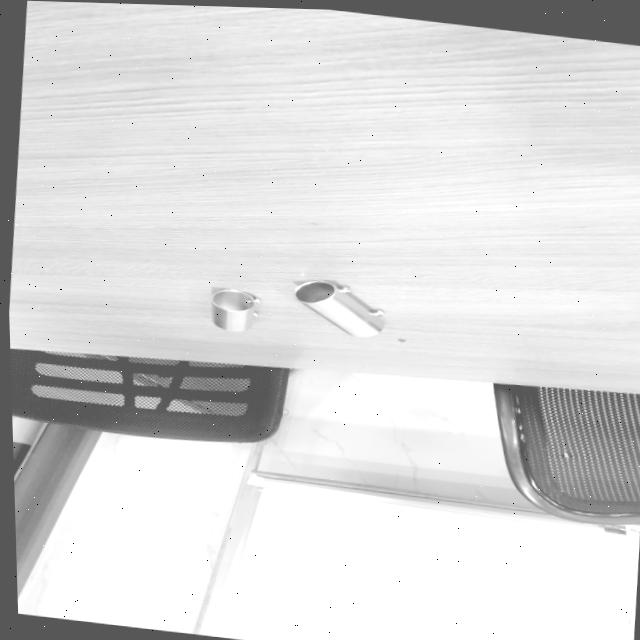Co_Lon: (291, 268, 388, 349)
Co_Nho: (209, 287, 259, 333)
